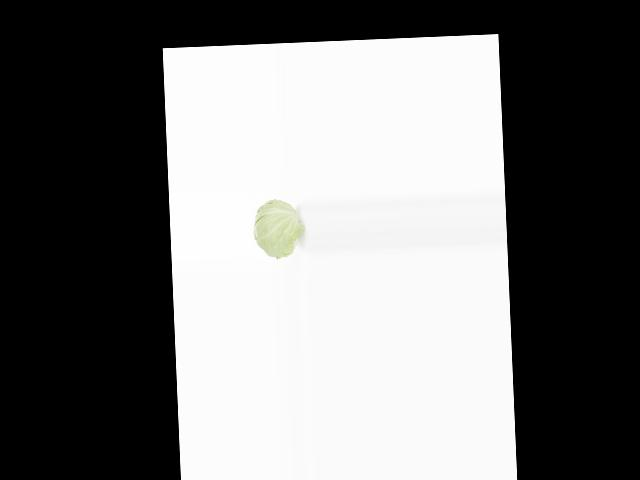lettuce: (251, 194, 299, 261)
